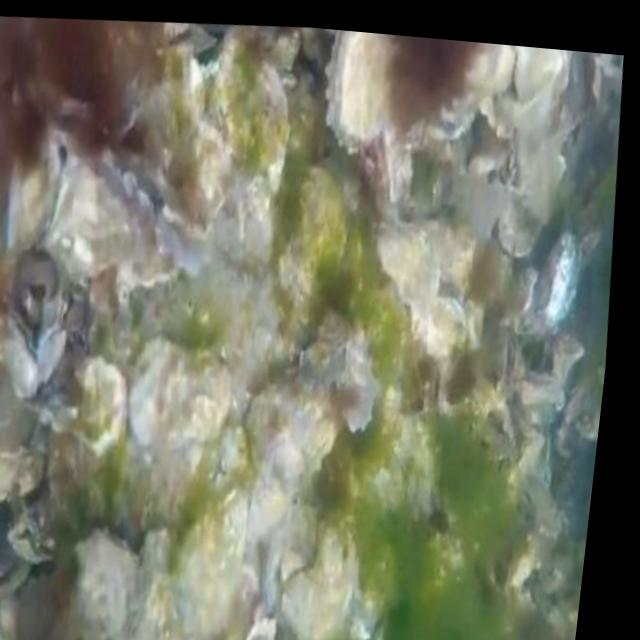Oyster-Closed: (327, 30, 402, 150), (73, 530, 140, 640), (1, 309, 40, 398), (376, 131, 413, 204), (496, 328, 519, 394), (465, 304, 484, 348), (372, 621, 387, 640)
Oyster-Indeterminate: (248, 323, 350, 503), (209, 43, 287, 186), (131, 340, 232, 449), (180, 489, 248, 633), (122, 524, 201, 640), (281, 169, 346, 308), (283, 515, 355, 640), (0, 315, 45, 502), (376, 219, 441, 309), (4, 148, 52, 255), (74, 360, 128, 448), (533, 231, 581, 323), (410, 297, 466, 359), (513, 46, 565, 108), (567, 364, 606, 445), (497, 188, 541, 256), (460, 41, 515, 94), (39, 291, 66, 343)
Oyster-Open: (43, 150, 156, 281), (155, 187, 215, 271), (339, 338, 378, 435), (8, 515, 53, 564), (0, 532, 30, 599)
